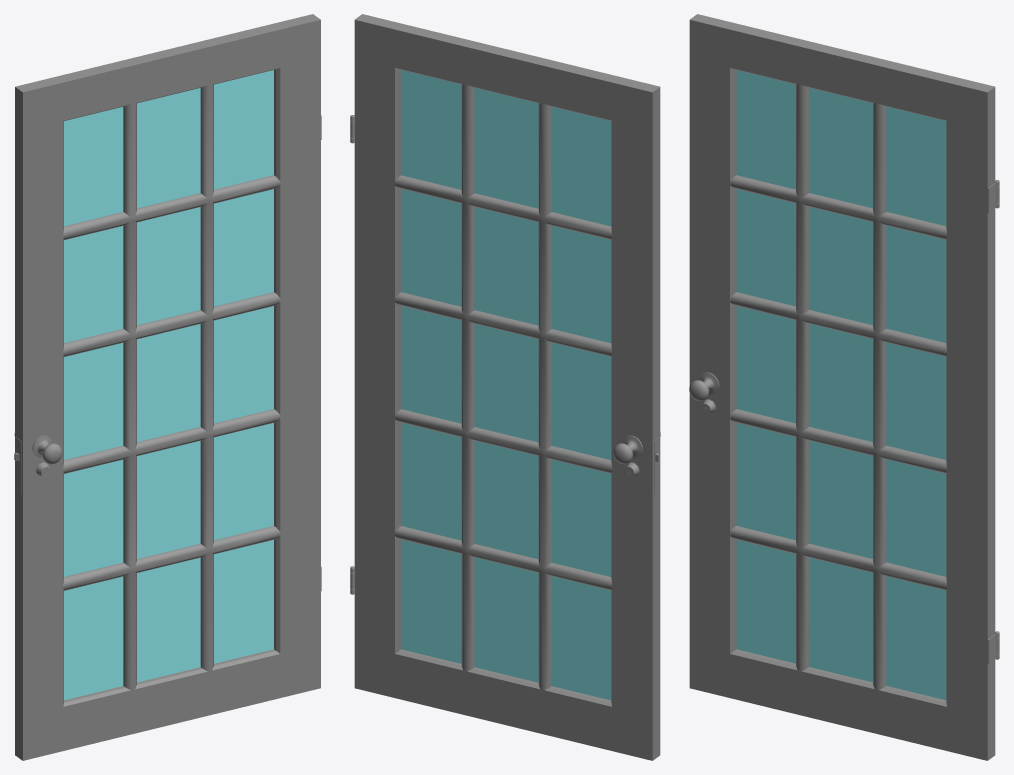
File: Door_mesh_multidirectional_B_L.FBX
3 renders of one model, left to right at view 1: azimuth 30°, elevation 25°; view 2: azimuth 150°, elevation 25°; view 3: azimuth 330°, elevation 25°, orthographic.
Visible parts, largest first — view 1: Door_mesh_B_L, Windowglass_A; view 2: Door_mesh_B_L, Windowglass_A; view 3: Door_mesh_B_L, Windowglass_A.
Part boxes in pixels (bbox=[...]): Door_mesh_B_L: bbox=[14, 14, 321, 760]; Windowglass_A: bbox=[64, 70, 273, 700]; Door_mesh_B_L: bbox=[350, 14, 660, 760]; Windowglass_A: bbox=[401, 70, 611, 700]; Door_mesh_B_L: bbox=[689, 14, 999, 760]; Windowglass_A: bbox=[736, 70, 946, 700].
Bounding box in the file's own units: 102 × 215 × 19.99.
